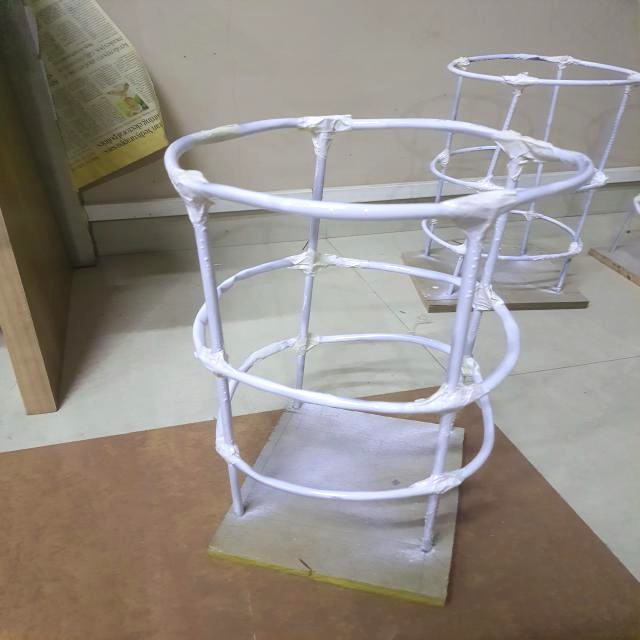silo: (163, 114, 559, 604), (411, 56, 640, 304)
